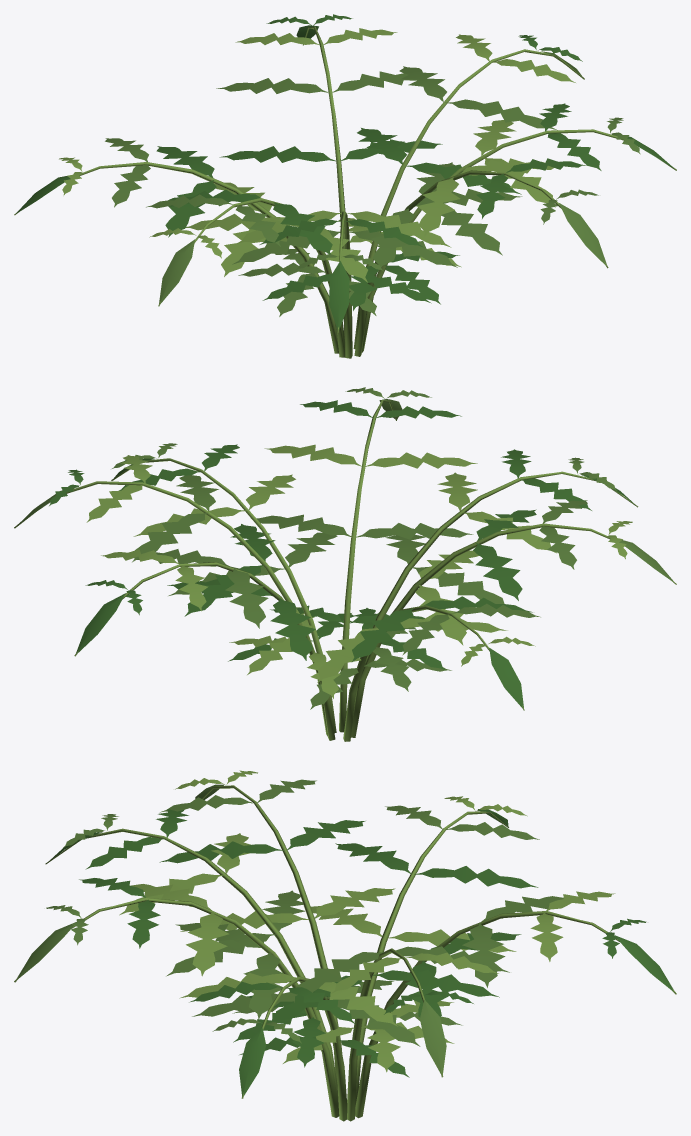
File: meadow_fern_rosette.glb
3 views of the same model, one above another, from view 1: azimuth 30°, elevation 25°; view 2: azimuth 150°, elevation 25°; view 3: azimuth 270°, elevation 25° (orthographic). The views are drawn at different scales.
Parts seen in each view (by area): view 1: body; view 2: body; view 3: body.
Part boxes in pixels (x1,y1,x2,y2): body: [14, 14, 676, 358]; body: [14, 387, 676, 741]; body: [14, 770, 676, 1121].
Bounding box in the file's own units: 0.6733 × 0.279 × 0.6719.
